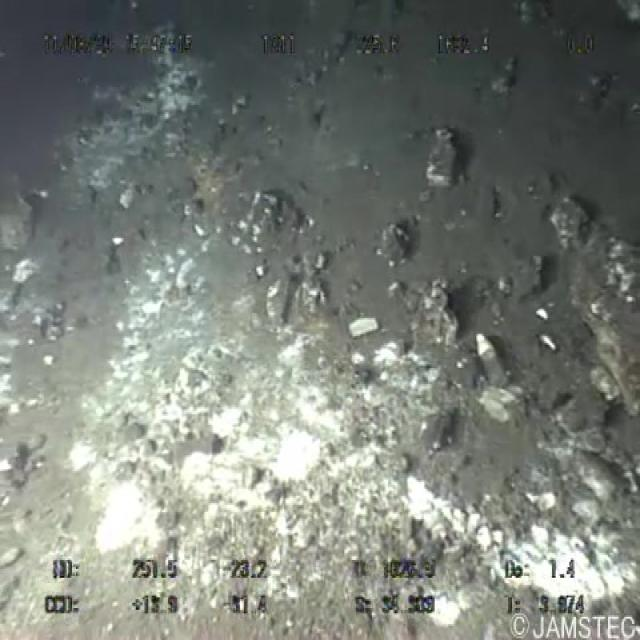plastic: (470, 327, 510, 391)
